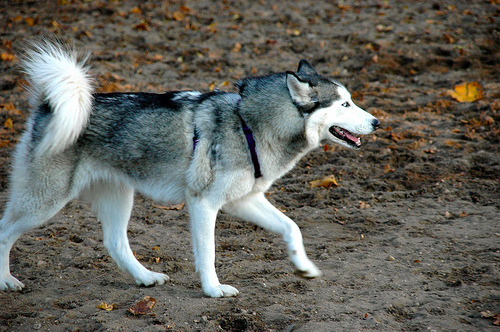dog: (0, 36, 381, 299)
